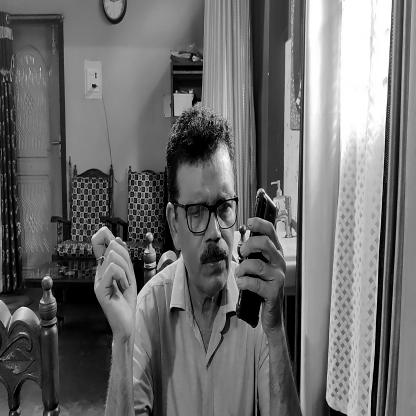Distracted: (162, 94, 241, 304)
